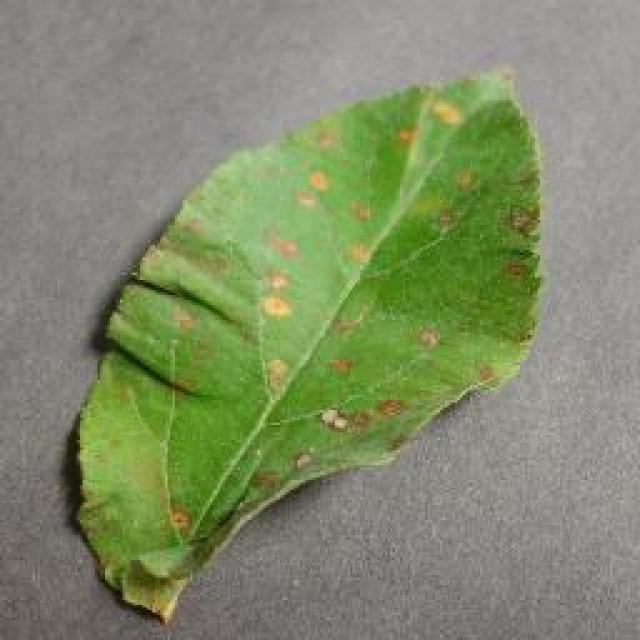apple scab disease: (67, 63, 545, 625)
